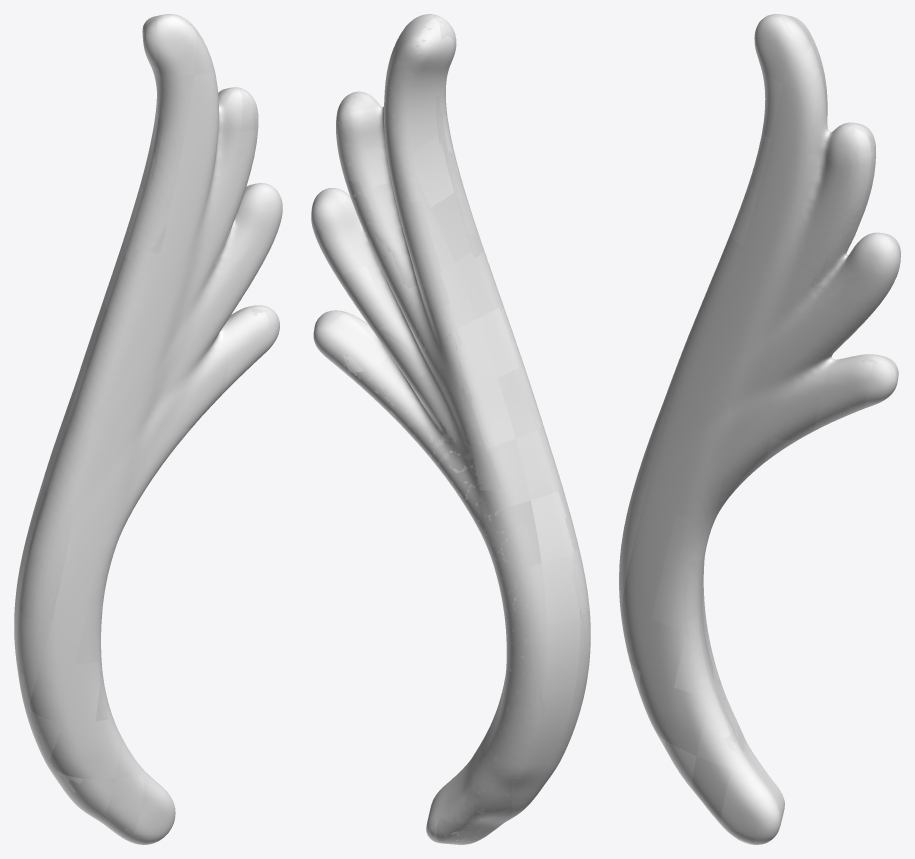
Rendered from callout-leaf-top-transformed.glb.
The picture shows the model from 3 angles, left to right: view 1: azimuth 30°, elevation 25°; view 2: azimuth 150°, elevation 25°; view 3: azimuth 330°, elevation 25°; orthographic projection.
Visible parts, largest first — view 1: Announcement Area; view 2: Announcement Area; view 3: Announcement Area.
Boxes of the visible parts, x1,y1,x2,y2 form: Announcement Area: [14, 14, 282, 844]; Announcement Area: [311, 14, 590, 844]; Announcement Area: [619, 14, 900, 844].
Size of the model in its own units: 46.97 by 138 by 13.36.
Materials: 1 (1 with a texture image).
